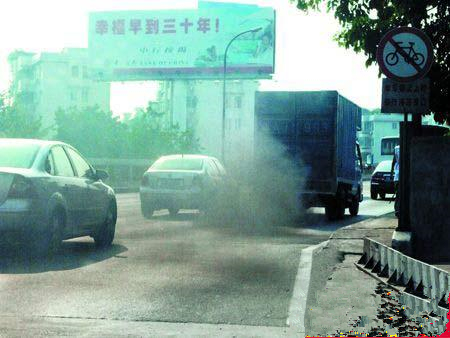smoke: (199, 138, 306, 235)
